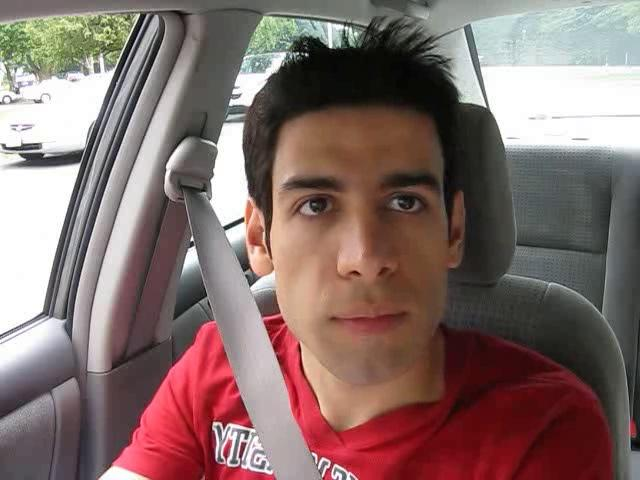no_yawn: (305, 286, 427, 353)
open_eyeL: (279, 181, 356, 235)
open_eyeR: (370, 177, 441, 228)
